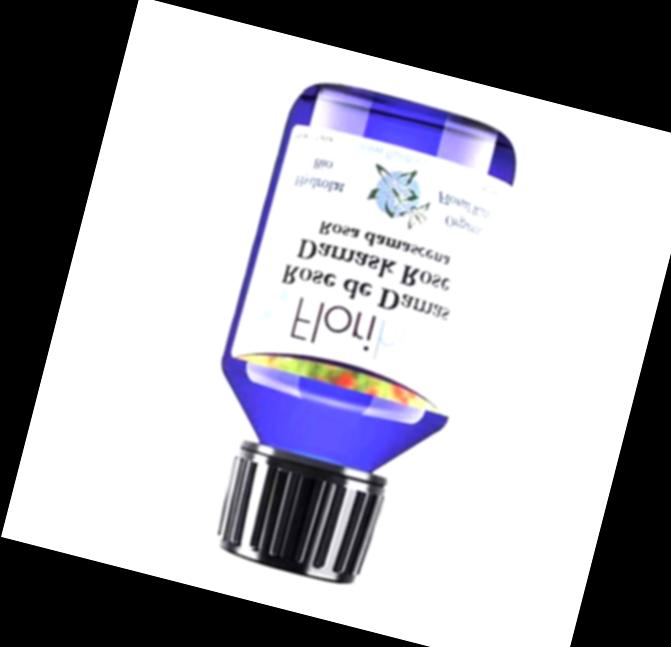cosmetic: (170, 73, 526, 605)
